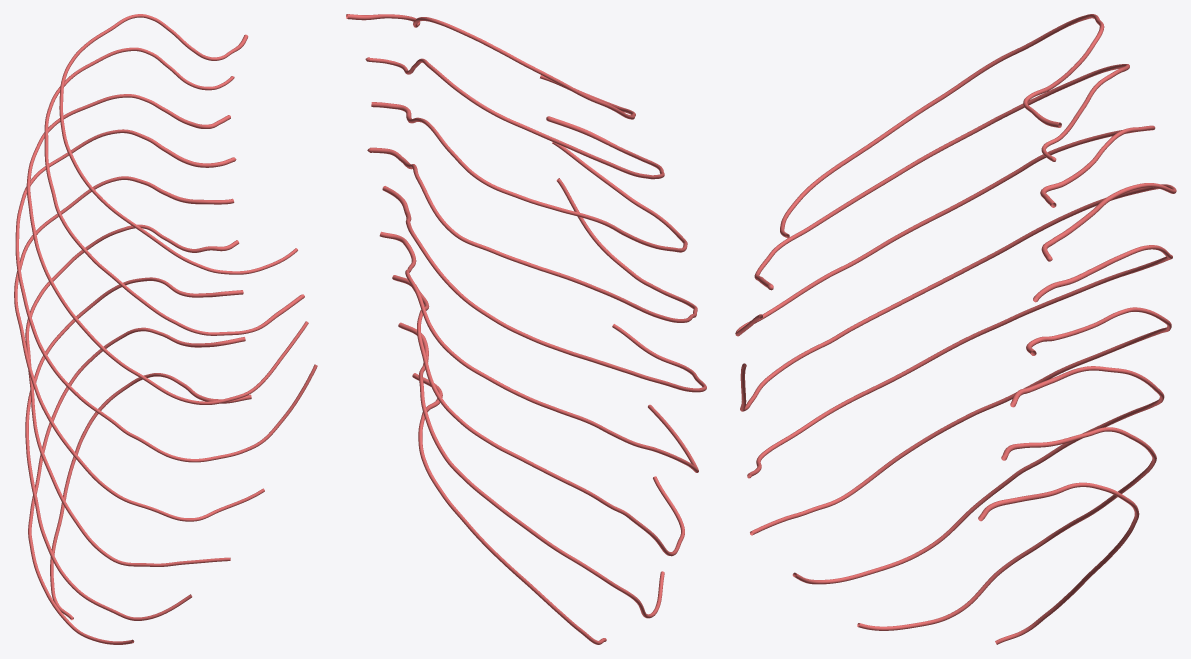
Rendered from Posterior_intercostal_arteries.r_BezierCurve.334.glb.
The picture shows the model from 3 angles, left to right: view 1: azimuth 30°, elevation 25°; view 2: azimuth 150°, elevation 25°; view 3: azimuth 270°, elevation 25°; orthographic projection. The views are drawn at different scales.
Visible parts, largest first — view 1: Posterior_intercostal_arteries.r_BezierCurve.334; view 2: Posterior_intercostal_arteries.r_BezierCurve.334; view 3: Posterior_intercostal_arteries.r_BezierCurve.334.
Boxes of the visible parts, left/top/right/bottom form: Posterior_intercostal_arteries.r_BezierCurve.334: left=14, top=14, right=317, bottom=644; Posterior_intercostal_arteries.r_BezierCurve.334: left=346, top=14, right=706, bottom=644; Posterior_intercostal_arteries.r_BezierCurve.334: left=735, top=14, right=1176, bottom=644.
Size of the model in its own units: 0.1543 by 0.3347 by 0.1966.
